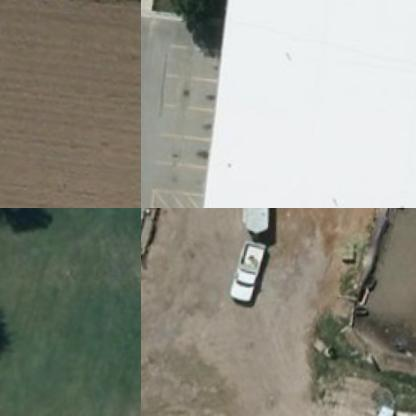car: (232, 235, 274, 304)
